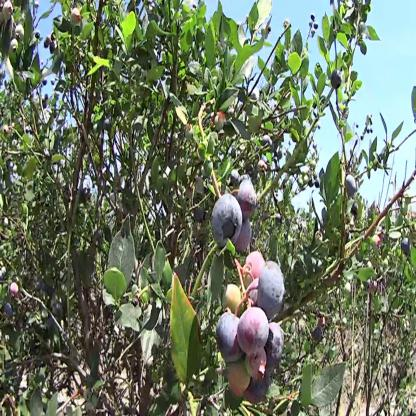intermediate: (240, 311, 269, 354), (246, 351, 269, 381), (246, 251, 264, 285), (373, 237, 383, 253), (10, 282, 19, 299), (72, 11, 81, 23)
mature: (213, 195, 241, 248), (260, 264, 284, 320), (218, 313, 242, 364), (243, 182, 259, 220), (240, 218, 254, 251), (346, 177, 358, 195), (332, 72, 342, 92), (402, 238, 410, 257), (5, 307, 13, 322), (352, 205, 360, 219)
young: (228, 362, 250, 399), (223, 284, 243, 317), (3, 1, 14, 21), (17, 26, 26, 45), (216, 116, 225, 134), (12, 42, 21, 56)
